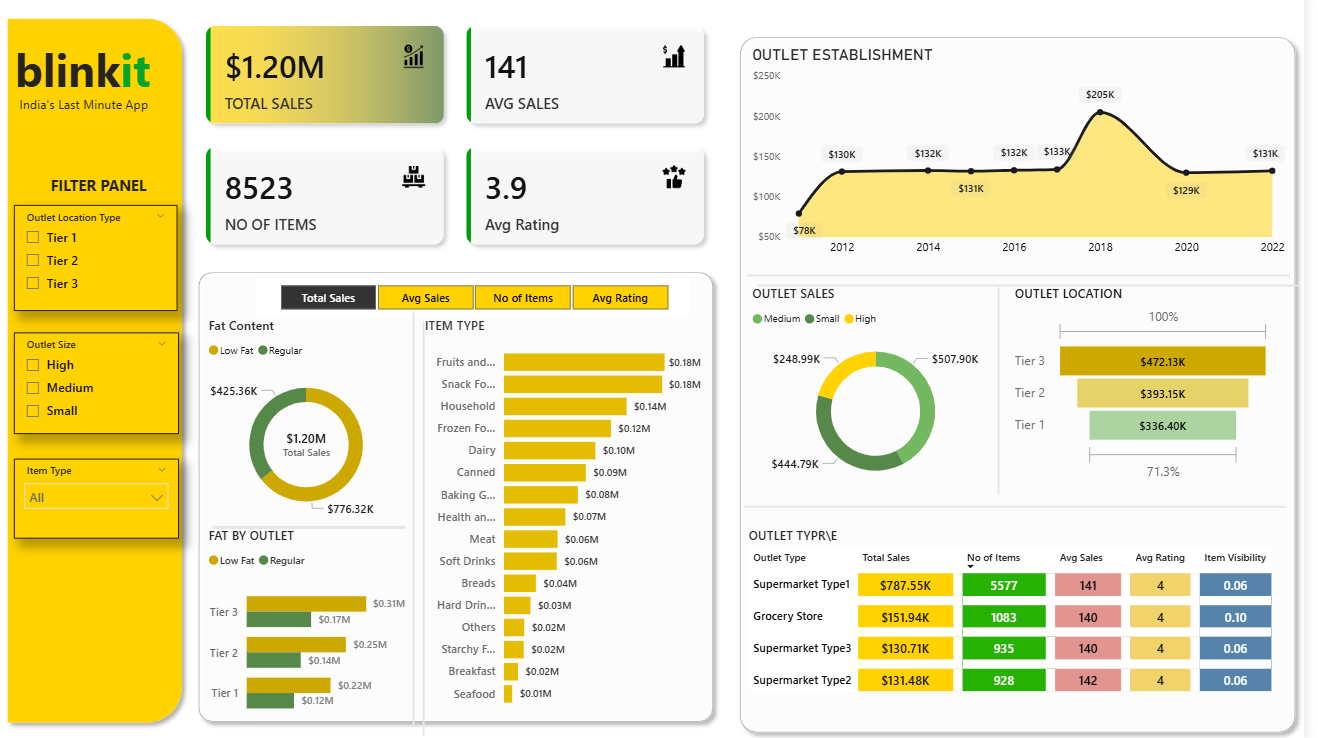

The page's visual inventory and layout, read from the dashboard file:
{"tool":"powerbi","page":{"name":"Page 1","canvas":[1400,800],"ordinal":0},"visuals":[{"type":"shape","box":[0,15.8,205.1,773.2],"z":0},{"type":"textbox","box":[12.6,41,167.3,77.3],"z":1000},{"type":"textbox","box":[3.2,102.6,176.7,31.6],"z":2000},{"type":"cardVisual","fields":{"Data":["BlinkIT Grocery Data.Total Sales","BlinkIT Grocery Data.Avg Sales","BlinkIT Grocery Data.No of Items","BlinkIT Grocery Data.Avg Rating"]},"box":[205.1,15.8,569.7,269.8],"z":3000},{"type":"shape","box":[205.1,288.8,569.7,500.2],"z":4000},{"type":"donutChart","title":"Fat Content","fields":{"Y":["BlinkIT Grocery Data.Total Sales"],"Category":["BlinkIT Grocery Data.Item Fat Content"]},"box":[219.3,344,219.3,230.4],"z":5000},{"type":"slicer","fields":{"Values":["Metrics.Metrics"]},"box":[276.2,304.6,465.5,39.5],"z":6000},{"type":"cardVisual","fields":{"Data":["BlinkIT Grocery Data.Total Sales"]},"box":[276.2,438.7,107.3,86.8],"z":7000},{"type":"clusteredBarChart","title":"FAT BY OUTLET","fields":{"Y":["BlinkIT Grocery Data.Total Sales"],"Category":["BlinkIT Grocery Data.Outlet Location Type"],"Series":["BlinkIT Grocery Data.Item Fat Content"]},"box":[219.3,569.7,220.9,219.3],"z":8000},{"type":"shape","box":[803.2,285.6,580.7,25.2],"z":9000},{"type":"shape","box":[438.7,339.3,12.6,445],"z":10000},{"type":"barChart","title":"ITEM TYPE","fields":{"Y":["BlinkIT Grocery Data.Total Sales"],"Category":["BlinkIT Grocery Data.Item Type"]},"box":[451.3,344,306.1,429.2],"z":11000},{"type":"shape","box":[785.9,36.3,613.8,763.8],"z":12000},{"type":"lineChart","title":"OUTLET ESTABLISHMENT","fields":{"Y":["BlinkIT Grocery Data.Total Sales"],"Category":["BlinkIT Grocery Data.Outlet Establishment Year"]},"box":[803.2,53.7,580.7,235.1],"z":13000},{"type":"shape","box":[229.3,559.2,206.7,25.2],"z":14000},{"type":"shape","box":[228.8,557,206.7,25.2],"z":15000},{"type":"shape","box":[803.2,288.8,580.7,25.2],"z":16000},{"type":"donutChart","title":"OUTLET SALES","fields":{"Y":["BlinkIT Grocery Data.Total Sales"],"Category":["BlinkIT Grocery Data.Outlet Size"]},"box":[803.2,310.9,274.6,225.7],"z":17000},{"type":"shape","box":[448.7,349.3,12.6,445],"z":18000},{"type":"shape","box":[1065.2,314,12.6,222.5],"z":18001},{"type":"funnel","title":"OUTLET LOCATION","fields":{"Y":["Sum(BlinkIT Grocery Data.Sales)"],"Category":["BlinkIT Grocery Data.Outlet Location Type"]},"box":[1084.1,310.9,284,214.6],"z":18002},{"type":"shape","box":[813.2,298.8,580.7,25.2],"z":18003},{"type":"shape","box":[798.5,536.5,580.7,25.2],"z":18004},{"type":"pivotTable","title":"OUTLET TYPR\\E","fields":{"Rows":["BlinkIT Grocery Data.Outlet Type"],"Values":["BlinkIT Grocery Data.Total Sales","BlinkIT Grocery Data.No of Items","BlinkIT Grocery Data.Avg Sales","BlinkIT Grocery Data.Avg Rating","Avg(BlinkIT Grocery Data.Item Visibility)"]},"box":[798.5,569.7,590.2,200.4],"z":18005},{"type":"slicer","fields":{"Values":["BlinkIT Grocery Data.Outlet Location Type"]},"box":[15.8,225.7,175.2,113.6],"z":18006},{"type":"slicer","fields":{"Values":["BlinkIT Grocery Data.Item Type"]},"box":[15.8,497.1,176.7,85.2],"z":18007},{"type":"slicer","fields":{"Values":["BlinkIT Grocery Data.Outlet Size"]},"box":[15.8,361.4,176.7,108.9],"z":18008},{"type":"textbox","box":[3.2,187.8,208.3,53.7],"z":18009}]}

Visuals, with their boxes in screenshot pixels (x1, y1, x2, y2), scaled from the page's 1400x800 canvas onto the 1318x738 screenshot:
shape: [0,15,193,728]
textbox: [12,38,169,109]
textbox: [3,95,169,124]
cardVisual - BlinkIT Grocery Data.Total Sales x BlinkIT Grocery Data.Avg Sales: [193,15,729,263]
shape: [193,266,729,728]
"Fat Content" donutChart: [206,317,413,530]
slicer - Metrics.Metrics: [260,281,698,317]
cardVisual - BlinkIT Grocery Data.Total Sales: [260,405,361,485]
"FAT BY OUTLET" clusteredBarChart: [206,526,414,728]
shape: [756,263,1303,287]
shape: [413,313,425,724]
"ITEM TYPE" barChart: [425,317,713,713]
shape: [740,33,1317,737]
"OUTLET ESTABLISHMENT" lineChart: [756,50,1303,266]
shape: [216,516,410,539]
shape: [215,514,410,537]
shape: [756,266,1303,290]
"OUTLET SALES" donutChart: [756,287,1015,495]
shape: [422,322,434,733]
shape: [1003,290,1015,495]
"OUTLET LOCATION" funnel: [1021,287,1288,485]
shape: [766,276,1312,299]
shape: [752,495,1298,518]
"OUTLET TYPR\E" pivotTable: [752,526,1307,710]
slicer - BlinkIT Grocery Data.Outlet Location Type: [15,208,180,313]
slicer - BlinkIT Grocery Data.Item Type: [15,459,181,537]
slicer - BlinkIT Grocery Data.Outlet Size: [15,333,181,434]
textbox: [3,173,199,223]
